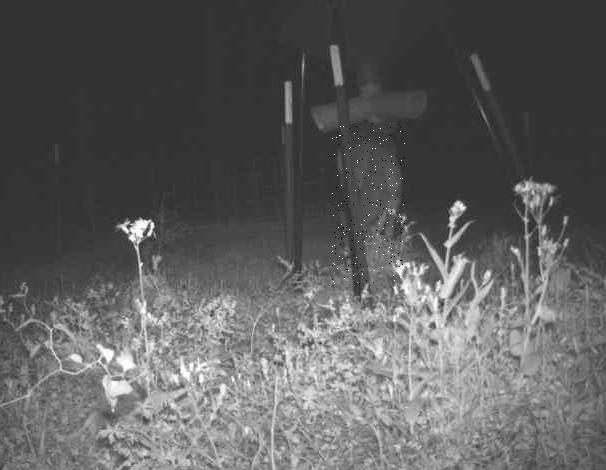Deer: (331, 123, 405, 284)
